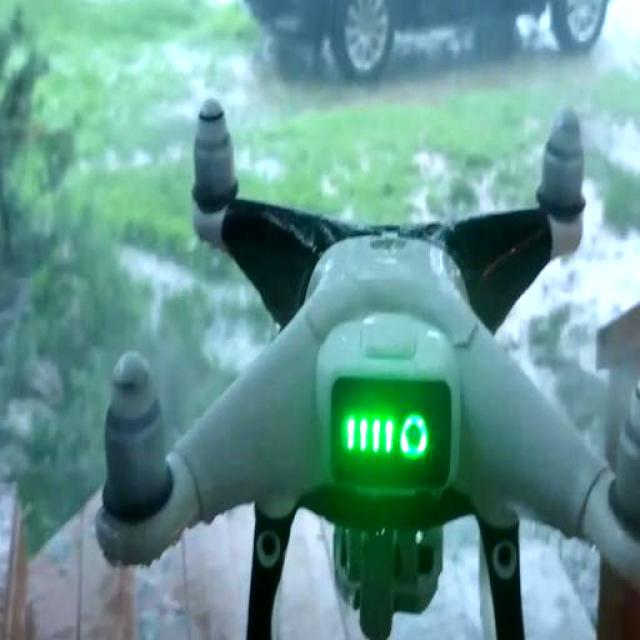bird: (88, 84, 640, 640)
